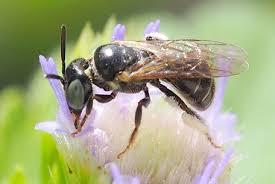Braunsapis: (41, 17, 233, 157)
